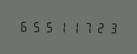five: (30, 19, 42, 33), (43, 19, 55, 33)
one: (56, 19, 68, 33), (69, 20, 81, 34)
seven: (82, 20, 94, 34)
six: (17, 19, 29, 33)
three: (108, 20, 120, 34)
two: (95, 20, 107, 34)
